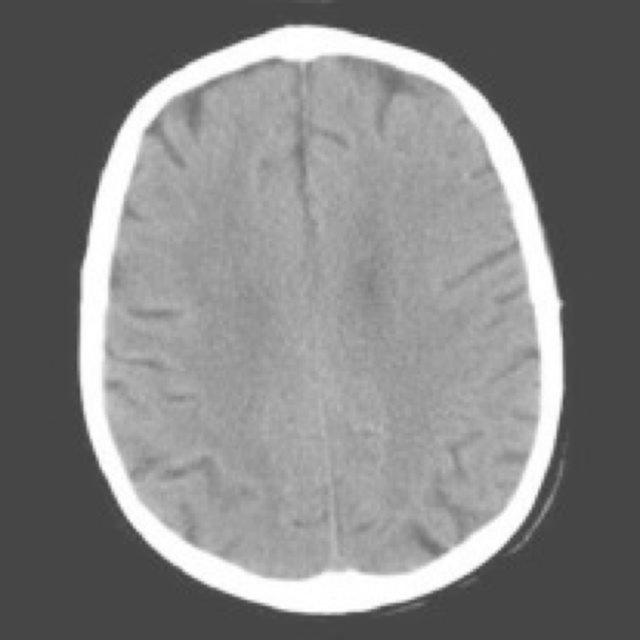glioma tumor: (173, 105, 492, 554)
